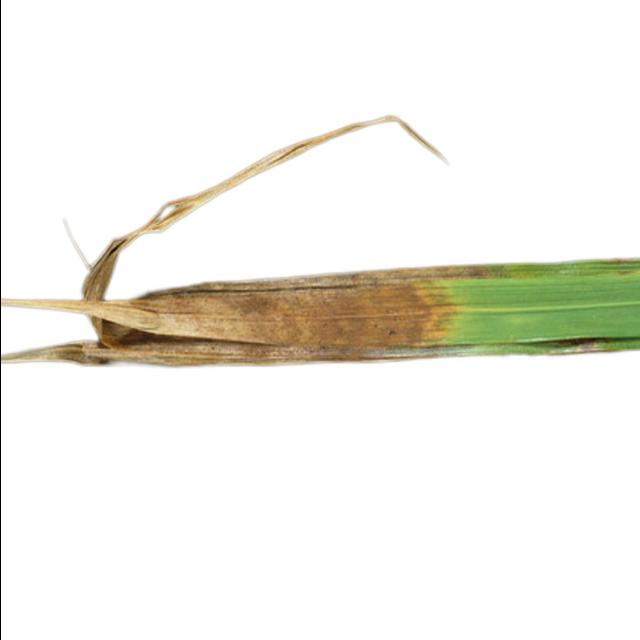Leaf scald: (0, 111, 640, 518)
